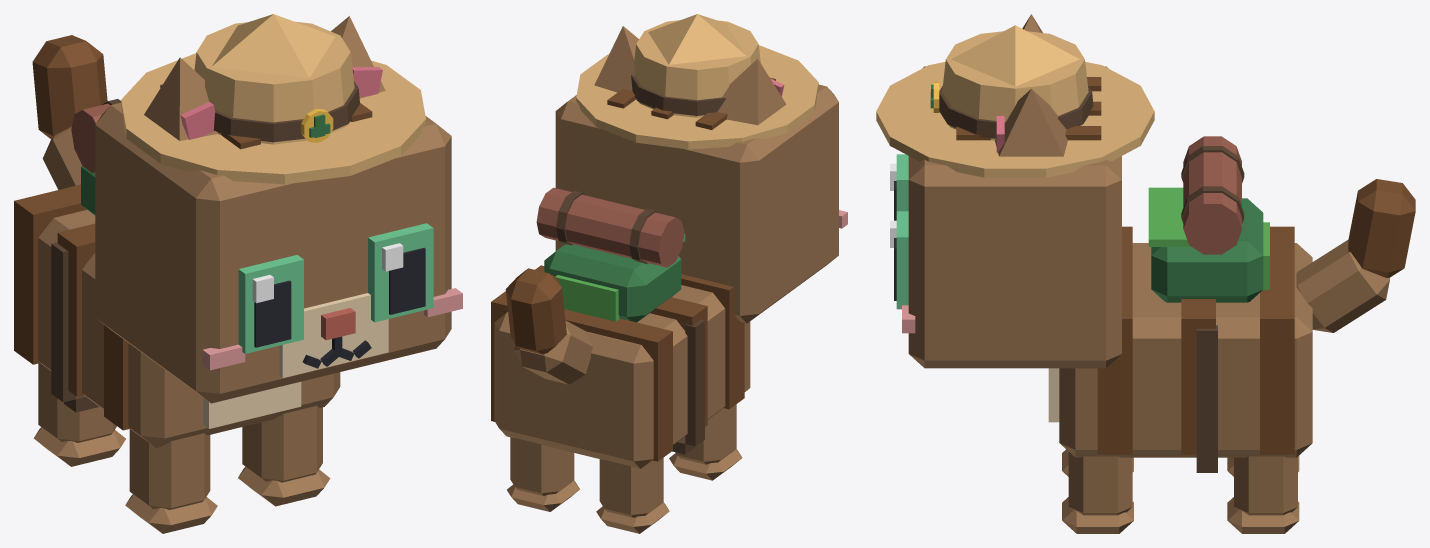
File: CatCafe_Cat_Pinecone.fbx
3 views of the same model, side by side, from view 1: azimuth 30°, elevation 25°; view 2: azimuth 150°, elevation 25°; view 3: azimuth 270°, elevation 25° (orthographic). The views are drawn at different scales.
Parts seen in each view (by area): view 1: CatCafe_Cat_Pinecone_Head, CatCafe_Cat_Pinecone_Prop2, CatCafe_Cat_Pinecone_Body, CatCafe_Cat_Pinecone_Tail, CatCafe_Cat_Pinecone_LegF2, CatCafe_Cat_Pinecone_LegF1, CatCafe_Cat_Pinecone_Eye2, CatCafe_Cat_Pinecone_Eye1, CatCafe_Cat_Pinecone_Prop, CatCafe_Cat_Pinecone_LegB2, CatCafe_Cat_Pinecone_EarR, CatCafe_Cat_Pinecone_EarL; view 2: CatCafe_Cat_Pinecone_Head, CatCafe_Cat_Pinecone_Body, CatCafe_Cat_Pinecone_Prop2, CatCafe_Cat_Pinecone_Prop, CatCafe_Cat_Pinecone_Tail, CatCafe_Cat_Pinecone_LegB2, CatCafe_Cat_Pinecone_LegB1, CatCafe_Cat_Pinecone_LegF2, CatCafe_Cat_Pinecone_EarR, CatCafe_Cat_Pinecone_EarL; view 3: CatCafe_Cat_Pinecone_Head, CatCafe_Cat_Pinecone_Body, CatCafe_Cat_Pinecone_Prop2, CatCafe_Cat_Pinecone_Prop, CatCafe_Cat_Pinecone_Tail, CatCafe_Cat_Pinecone_LegF1, CatCafe_Cat_Pinecone_LegB1, CatCafe_Cat_Pinecone_EarL, CatCafe_Cat_Pinecone_Eye1, CatCafe_Cat_Pinecone_Eye2.
Boxes of the visible parts, x1,y1,x2,y2 form: CatCafe_Cat_Pinecone_Head: (95, 84, 462, 403); CatCafe_Cat_Pinecone_Prop2: (121, 14, 425, 184); CatCafe_Cat_Pinecone_Body: (14, 184, 340, 447); CatCafe_Cat_Pinecone_Tail: (32, 35, 107, 189); CatCafe_Cat_Pinecone_LegF2: (125, 429, 217, 533); CatCafe_Cat_Pinecone_LegF1: (238, 405, 330, 506); CatCafe_Cat_Pinecone_Eye2: (238, 255, 303, 353); CatCafe_Cat_Pinecone_Eye1: (368, 223, 433, 322); CatCafe_Cat_Pinecone_Prop: (51, 99, 121, 412); CatCafe_Cat_Pinecone_LegB2: (33, 363, 125, 466); CatCafe_Cat_Pinecone_EarR: (144, 57, 217, 140); CatCafe_Cat_Pinecone_EarL: (331, 16, 385, 98); CatCafe_Cat_Pinecone_Head: (555, 77, 847, 323); CatCafe_Cat_Pinecone_Body: (491, 265, 750, 468); CatCafe_Cat_Pinecone_Prop2: (576, 14, 818, 149); CatCafe_Cat_Pinecone_Prop: (536, 187, 704, 454); CatCafe_Cat_Pinecone_Tail: (505, 268, 592, 384); CatCafe_Cat_Pinecone_LegB2: (596, 458, 669, 533); CatCafe_Cat_Pinecone_LegB1: (507, 437, 579, 511); CatCafe_Cat_Pinecone_LegF2: (669, 404, 742, 480); CatCafe_Cat_Pinecone_EarR: (717, 59, 786, 125); CatCafe_Cat_Pinecone_EarL: (594, 26, 638, 92); CatCafe_Cat_Pinecone_Head: (902, 66, 1121, 368); CatCafe_Cat_Pinecone_Body: (1048, 226, 1312, 457); CatCafe_Cat_Pinecone_Prop2: (876, 25, 1154, 177); CatCafe_Cat_Pinecone_Prop: (1148, 136, 1269, 472); CatCafe_Cat_Pinecone_Tail: (1296, 179, 1415, 332); CatCafe_Cat_Pinecone_LegF1: (1062, 452, 1133, 533); CatCafe_Cat_Pinecone_LegB1: (1227, 456, 1299, 533); CatCafe_Cat_Pinecone_EarL: (995, 89, 1067, 156); CatCafe_Cat_Pinecone_Eye1: (890, 211, 908, 309); CatCafe_Cat_Pinecone_Eye2: (890, 154, 908, 220).
Bounding box in the file's own units: 1.02 × 1.97 × 2.02.
Materials: 1 (1 with a texture image).
